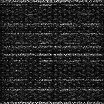lte: (1, 100, 104, 104), (1, 53, 104, 57), (1, 87, 104, 91), (1, 31, 104, 35), (1, 1, 104, 3)
